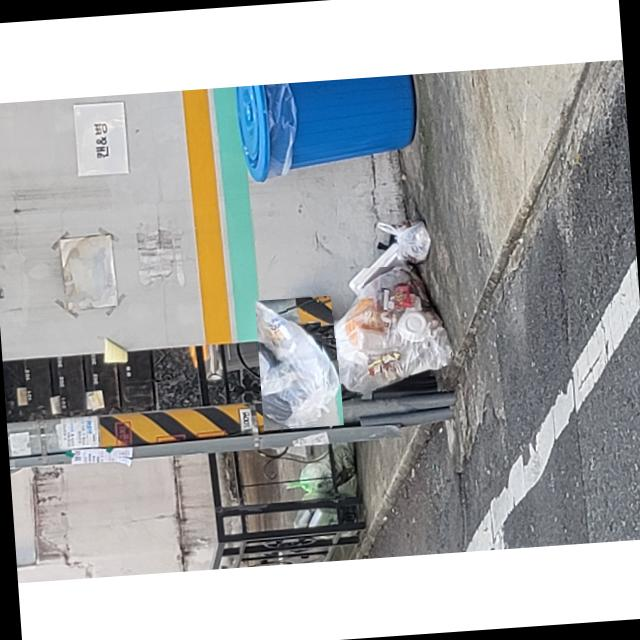other_trashbag: (322, 264, 452, 392), (255, 299, 337, 426)
